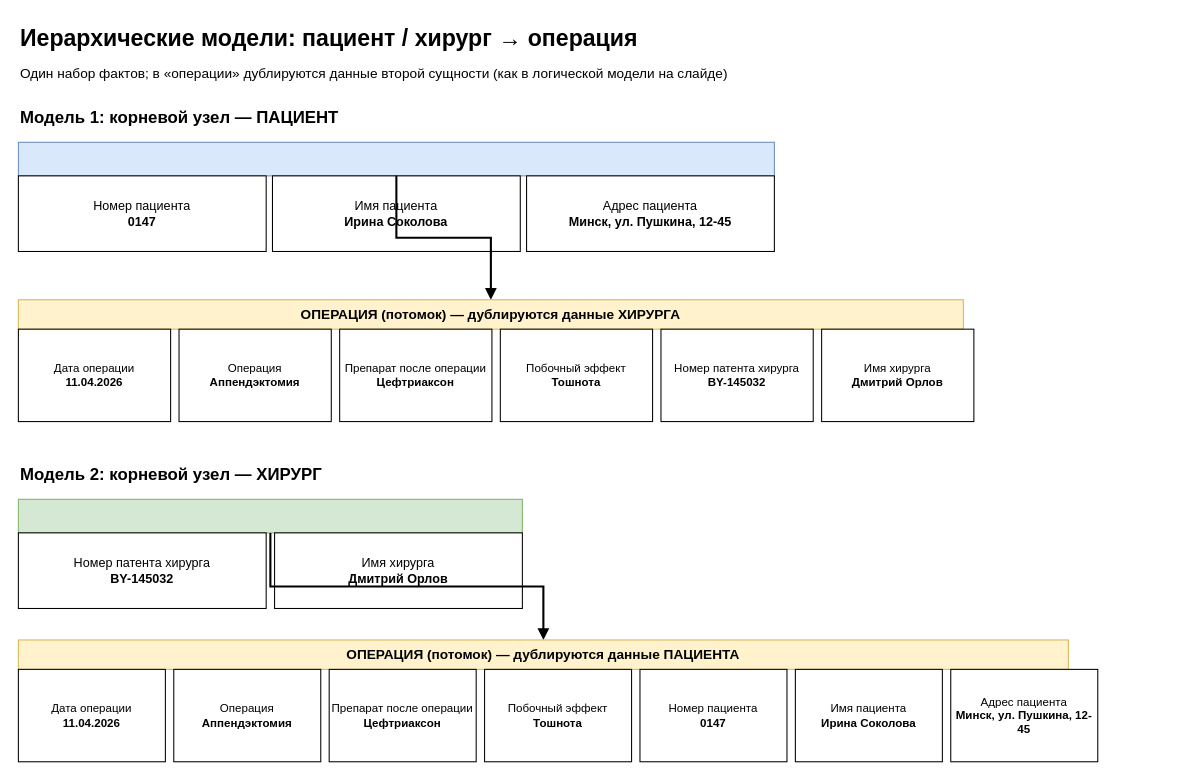
The diagram is 1192 pixels wide and 780 high, and some of its shapes have lost their labels. Each missing label, with the centre of its shape:
ПАЦИЕНТ: point 395,158
ХИРУРГ: point 269,515
